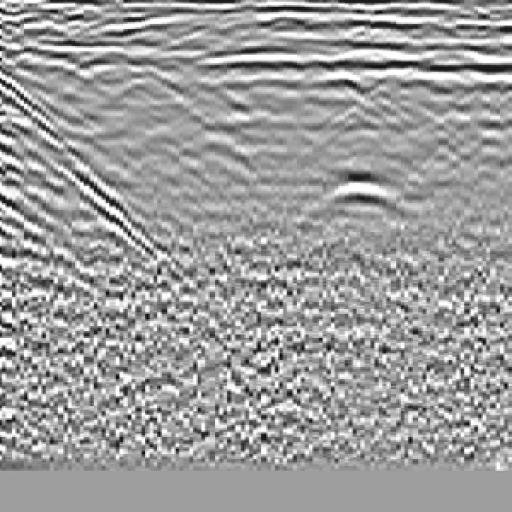metalic: (292, 38, 447, 246)
nonmetalic: (1, 48, 176, 266)
